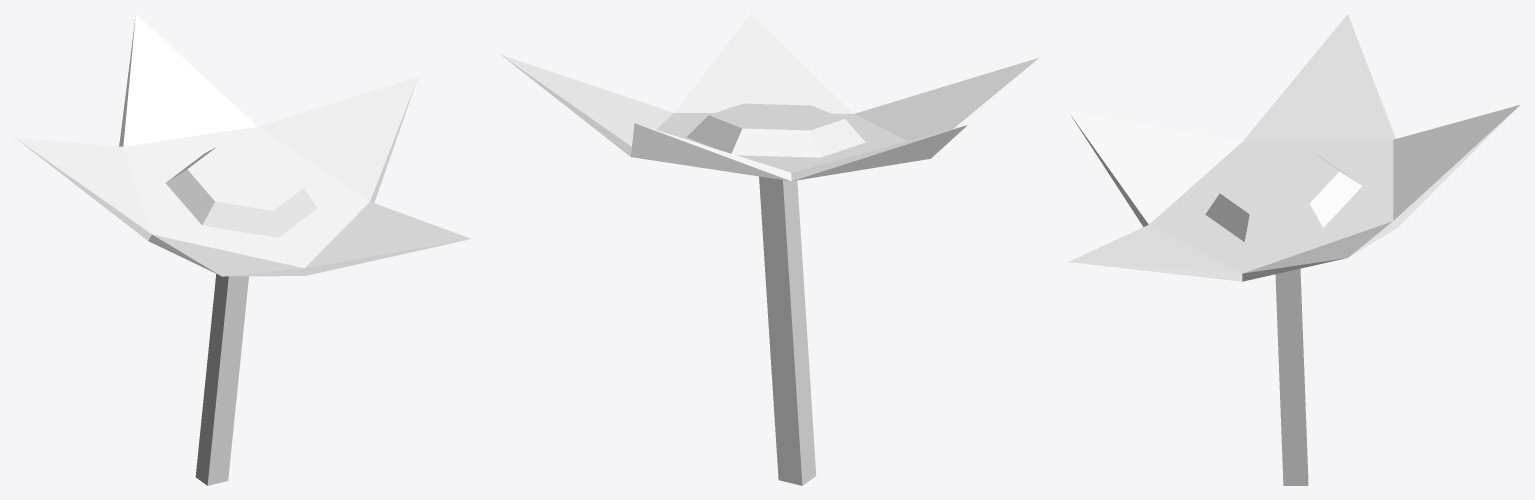
Rendered from Env_Flowers_02.glb.
3 renders of one model, left to right at view 1: azimuth 30°, elevation 25°; view 2: azimuth 150°, elevation 25°; view 3: azimuth 270°, elevation 25°, orthographic. The views are drawn at different scales.
Parts seen in each view (by area): view 1: Env_Flowers_02; view 2: Env_Flowers_02; view 3: Env_Flowers_02.
Boxes of the visible parts, left/top/right/bottom form: Env_Flowers_02: left=15, top=14, right=470, bottom=485; Env_Flowers_02: left=501, top=14, right=1038, bottom=485; Env_Flowers_02: left=1068, top=14, right=1520, bottom=485.
Size of the model in its own units: 0.2429 by 0.2171 by 0.227.
1 material, 1 textured.
